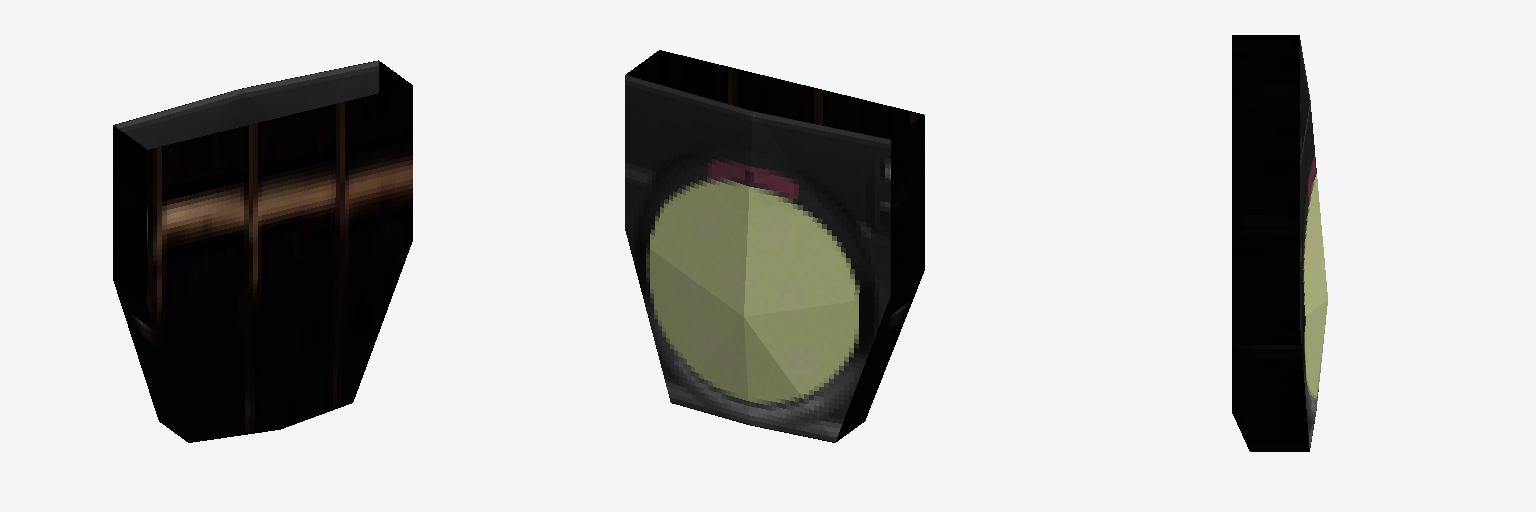
3 renders of one model, left to right at view 1: azimuth 30°, elevation 25°; view 2: azimuth 150°, elevation 25°; view 3: azimuth 270°, elevation 25°, orthographic.
Parts seen in each view (by area): view 1: Cube; view 2: Cube; view 3: Cube.
Boxes of the visible parts, <box> form: Cube: <box>113,60,412,442</box>; Cube: <box>625,50,924,442</box>; Cube: <box>1232,35,1327,451</box>.
Size of the model in its own units: 1.03 by 1.16 by 0.3233.
1 materials, 1 textured.